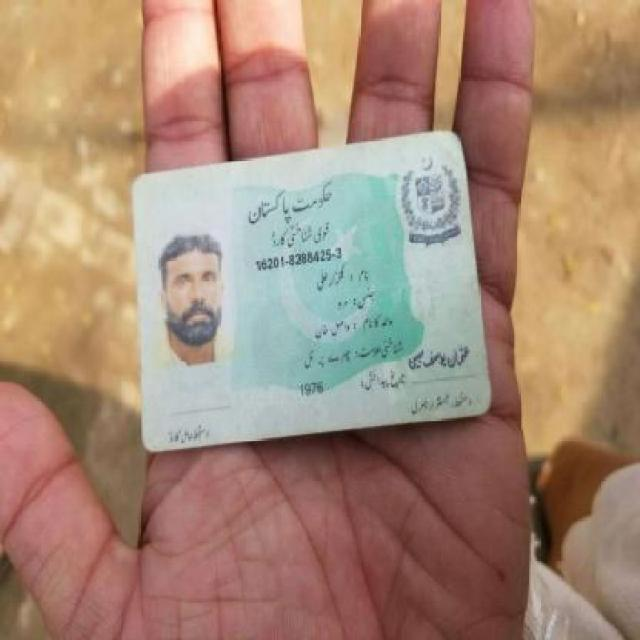Front: (122, 132, 490, 438)
